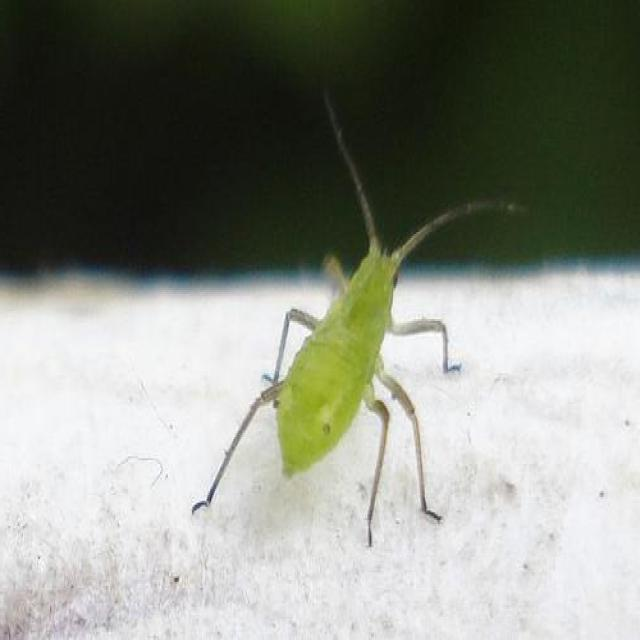aphid: (171, 110, 553, 586)
